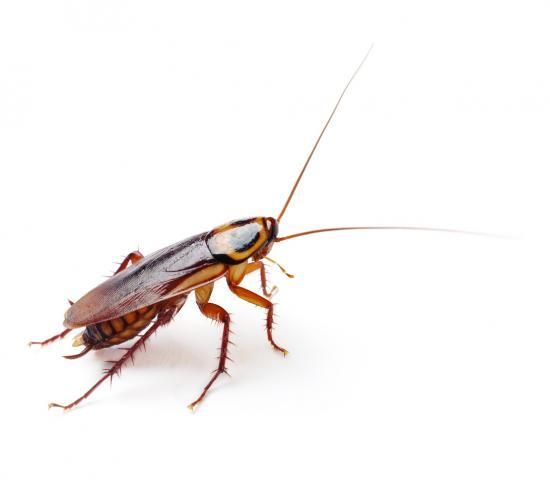cockroach: (57, 212, 285, 356)
